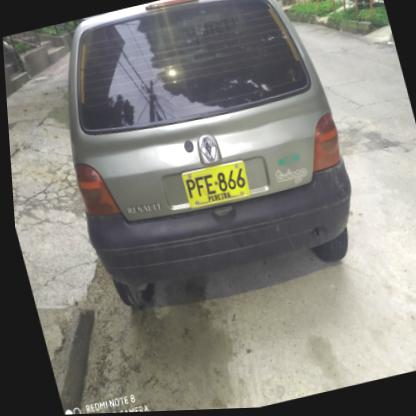placa: (174, 156, 253, 215)
